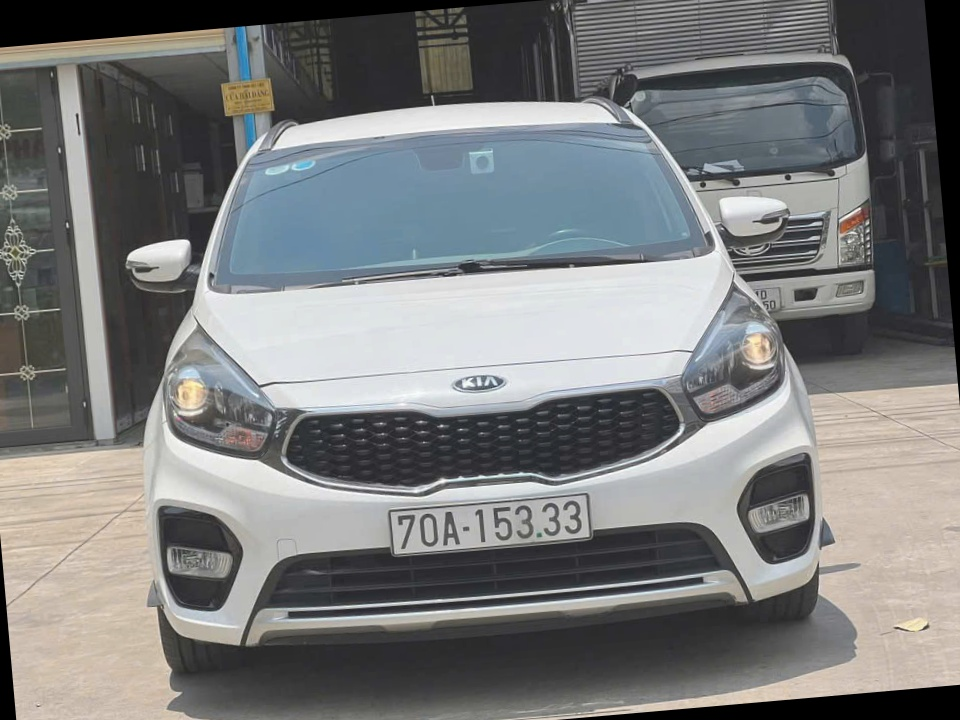Bien-so: (361, 501, 571, 559)
